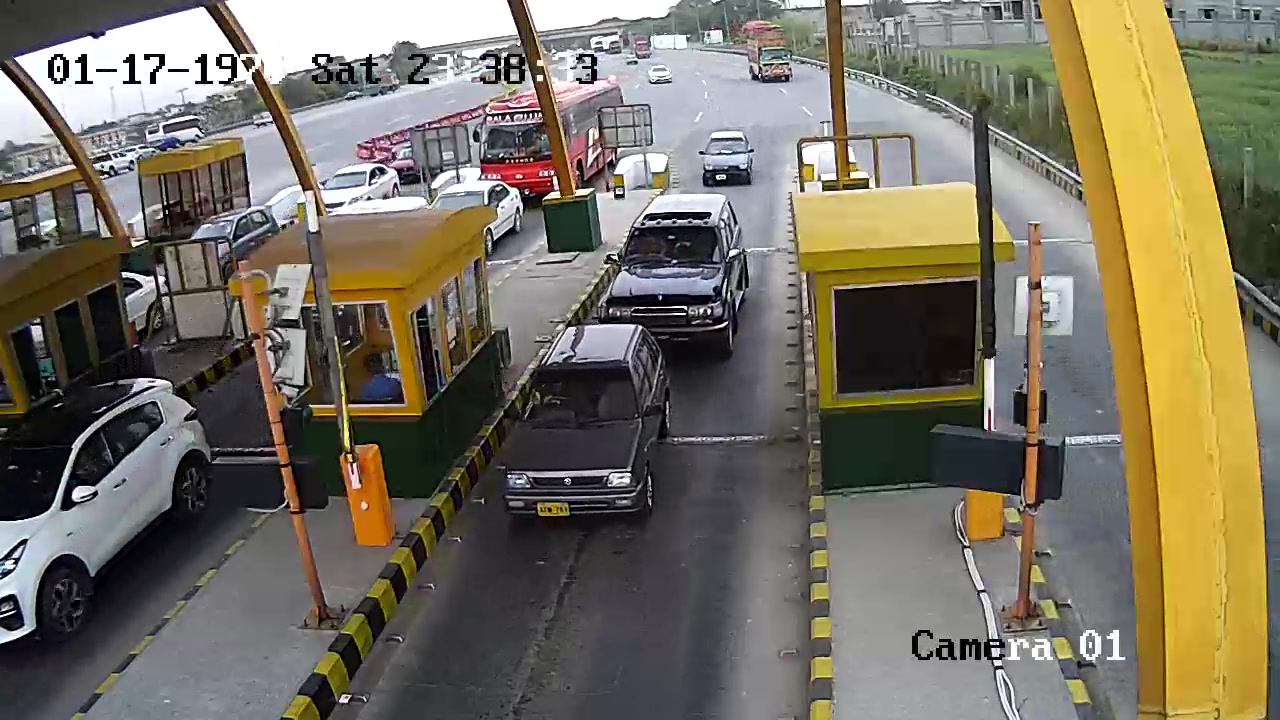F1: (487, 317, 673, 533), (611, 190, 754, 356)
